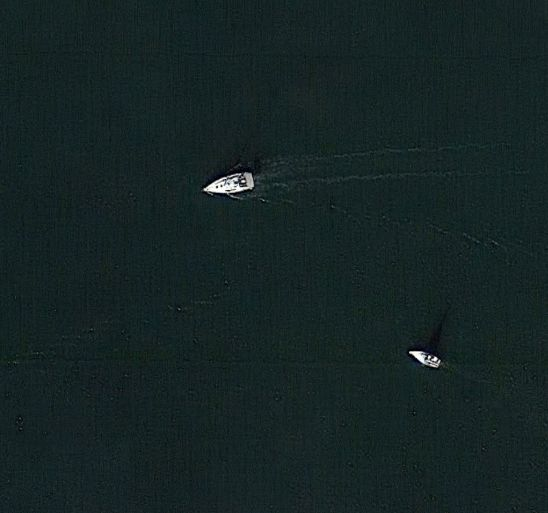boat: (203, 169, 257, 196), (407, 347, 442, 370)
